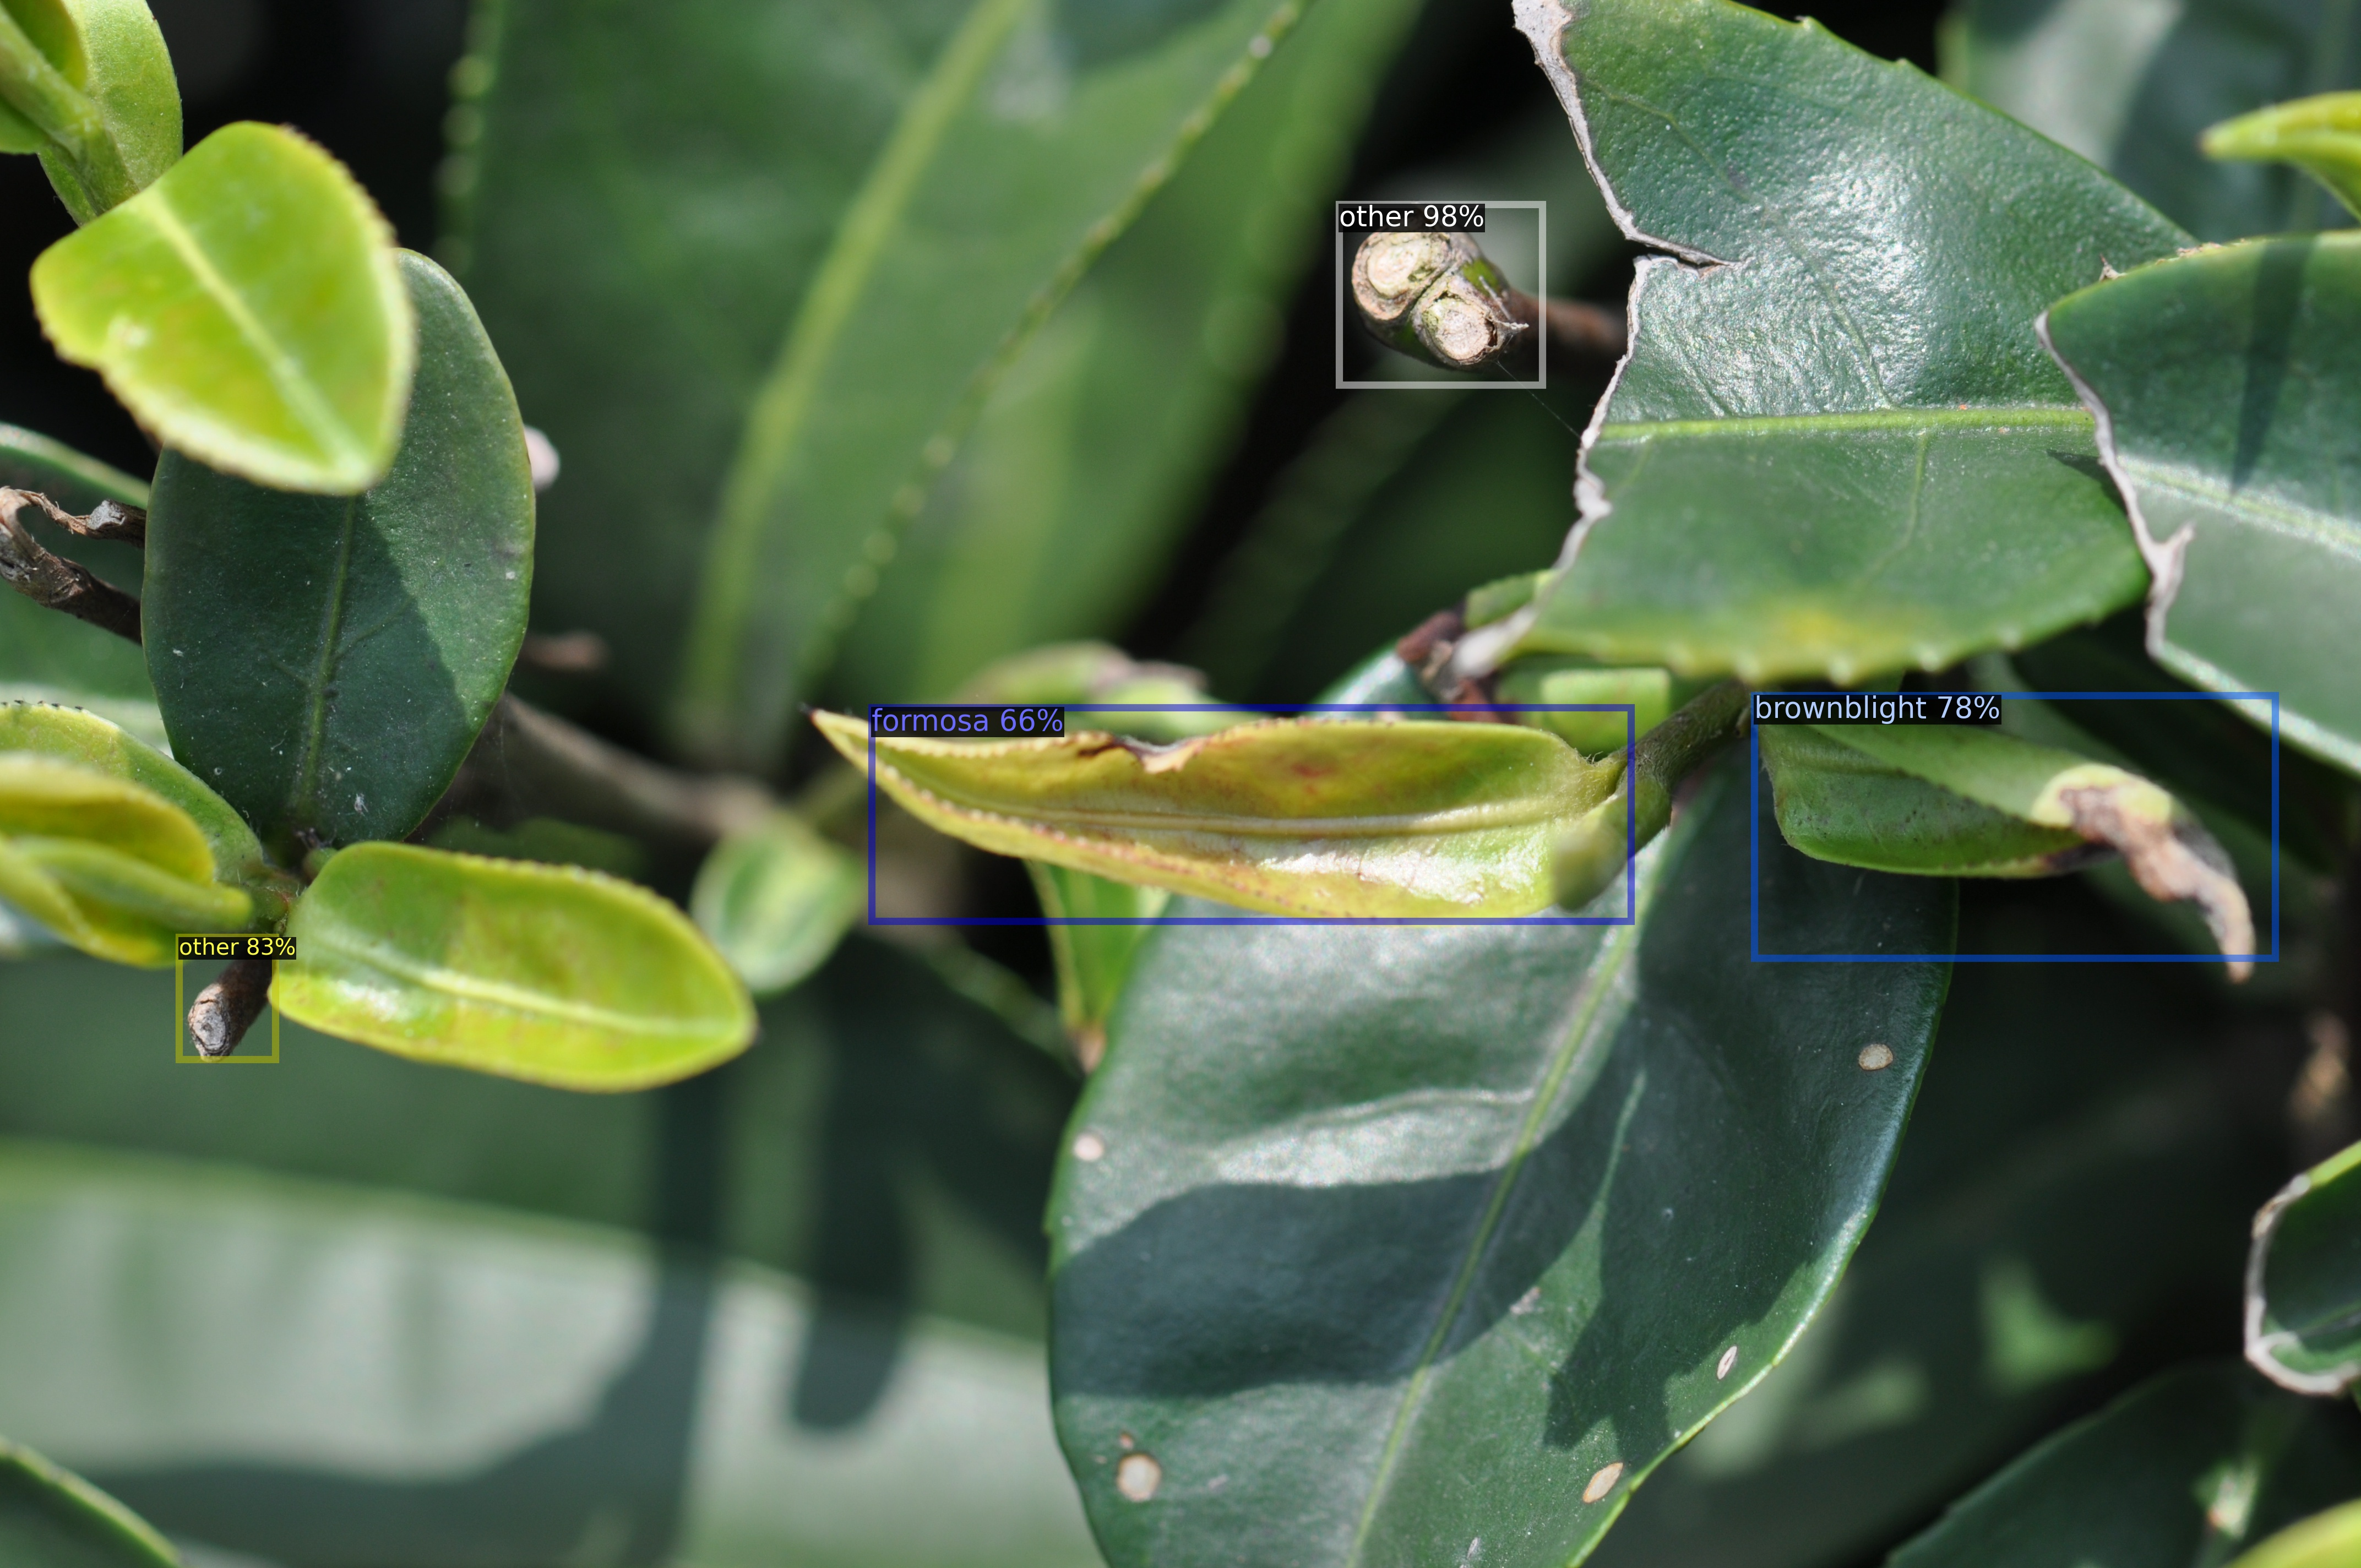brownblight: (1754, 695, 2275, 957)
formosa: (872, 707, 1631, 920)
other: (1339, 205, 1542, 385), (179, 936, 275, 1059)
